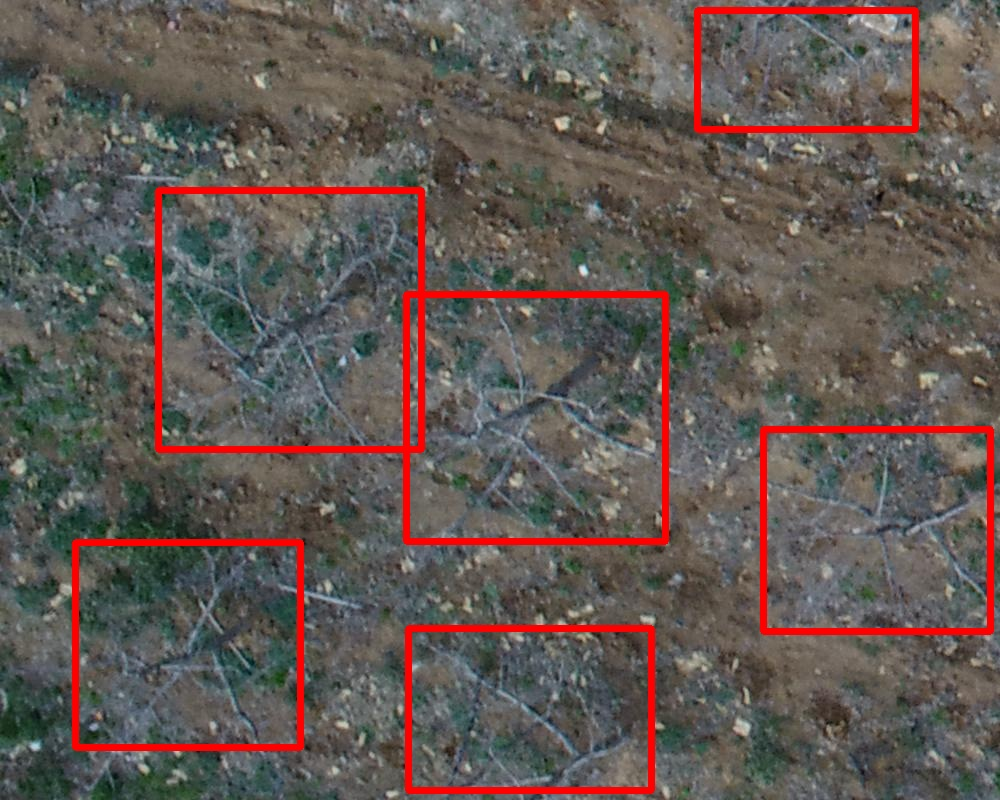apple: (158, 190, 421, 449), (406, 294, 665, 541), (75, 542, 300, 747), (763, 429, 990, 631), (408, 628, 651, 790), (697, 10, 915, 129)
